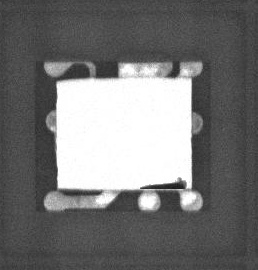DIE_BROKEN: (138, 175, 189, 190)
